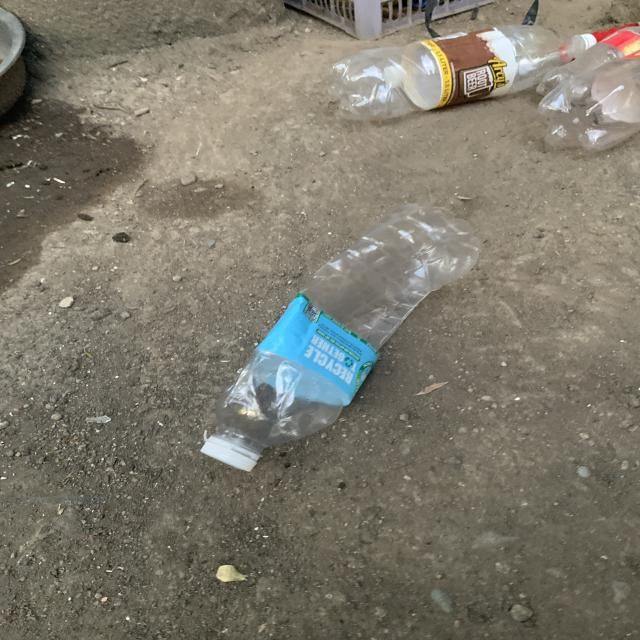Bottle: (201, 204, 479, 471)
